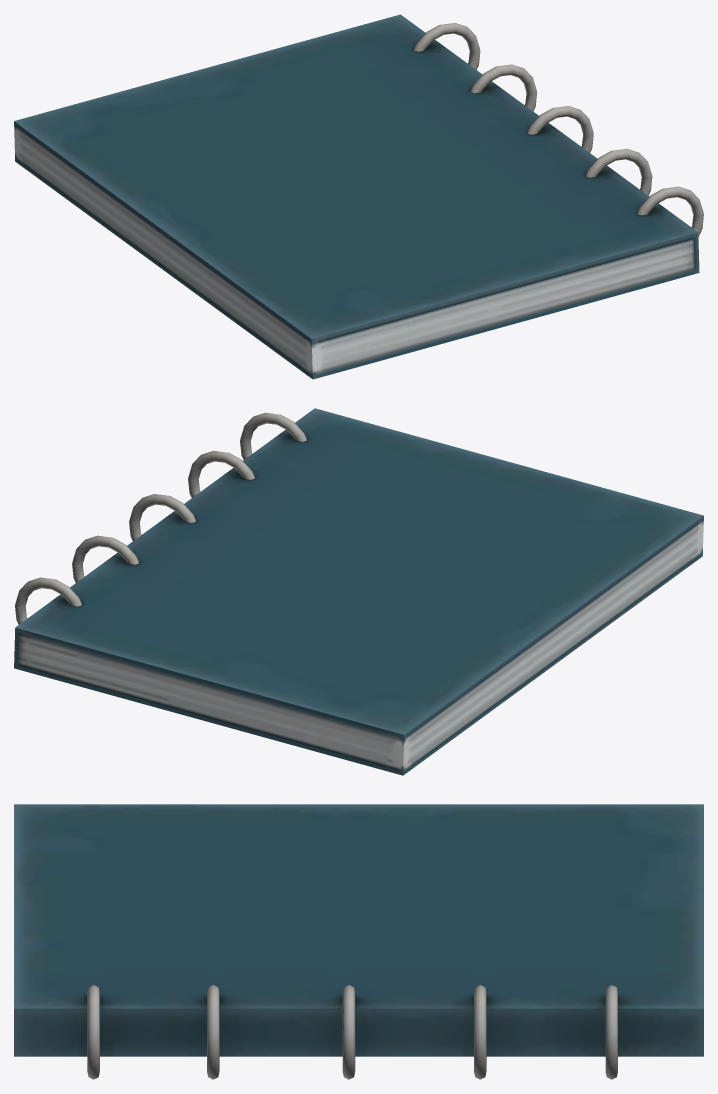
The model's file is OfficeDeskSet02__6.fbx.
The picture shows the model from 3 angles, top to bottom: view 1: azimuth 30°, elevation 25°; view 2: azimuth 150°, elevation 25°; view 3: azimuth 270°, elevation 25°; orthographic projection. The views are drawn at different scales.
Parts seen in each view (by area): view 1: OfficeDeskSet02; view 2: OfficeDeskSet02; view 3: OfficeDeskSet02.
Part boxes in pixels (left/top/right/bottom): OfficeDeskSet02: left=14, top=14, right=703, bottom=379; OfficeDeskSet02: left=14, top=408, right=703, bottom=775; OfficeDeskSet02: left=14, top=804, right=703, bottom=1079.
Bounding box in the file's own units: 0.2308 × 0.0383 × 0.2792.
Materials: 1 (1 with a texture image).
